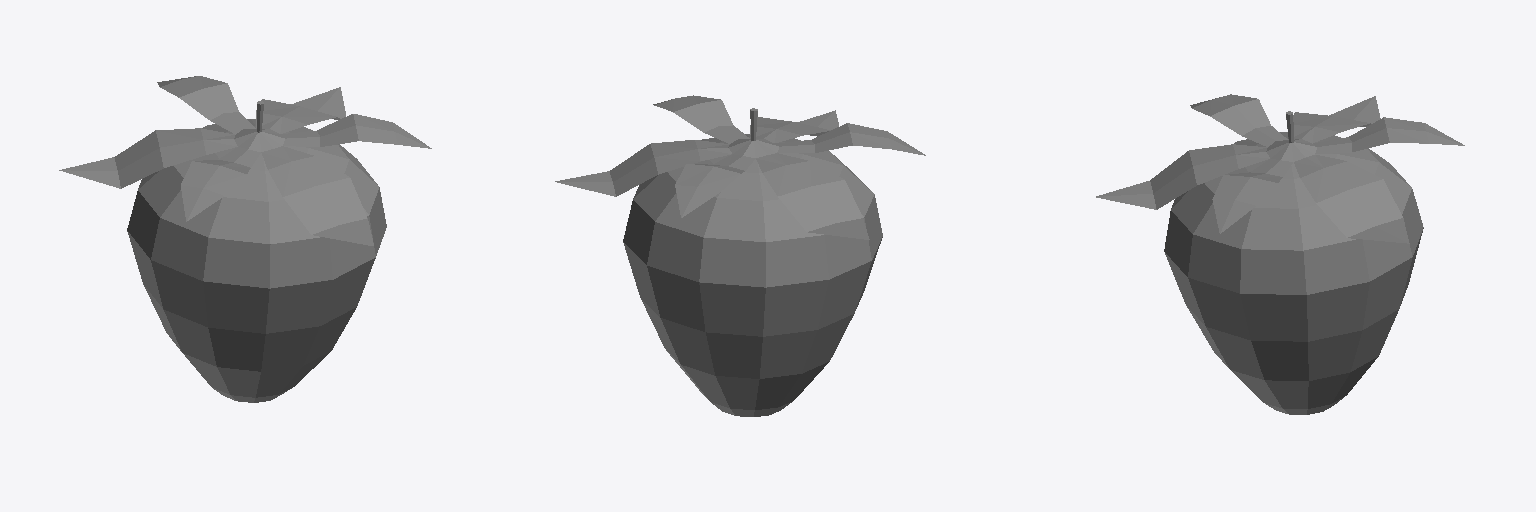
The model's file is Strawberry.obj.
The picture shows the model from 3 angles: view 1: azimuth 30°, elevation 25°; view 2: azimuth 150°, elevation 25°; view 3: azimuth 270°, elevation 25°; orthographic projection.
Visible parts, largest first — view 1: Inst3D30_RefRep.227; view 2: Inst3D30_RefRep.227; view 3: Inst3D30_RefRep.227.
Boxes of the visible parts, box(x1,y1,x2,y2) form: Inst3D30_RefRep.227: box(59, 76, 431, 402); Inst3D30_RefRep.227: box(555, 95, 925, 416); Inst3D30_RefRep.227: box(1096, 94, 1464, 414).
Bounding box in the file's own units: 3.45 × 3.26 × 3.72.